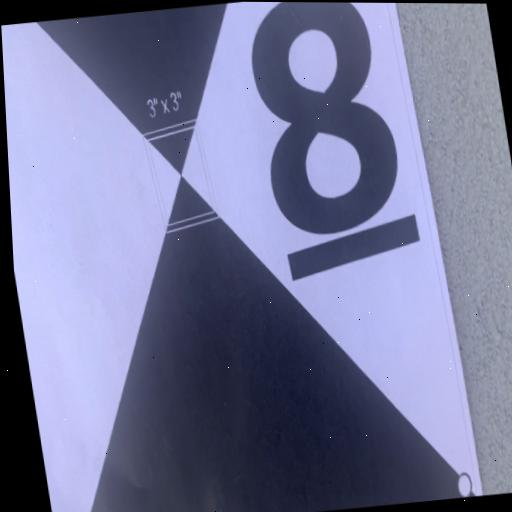target8: (1, 2, 483, 512)
